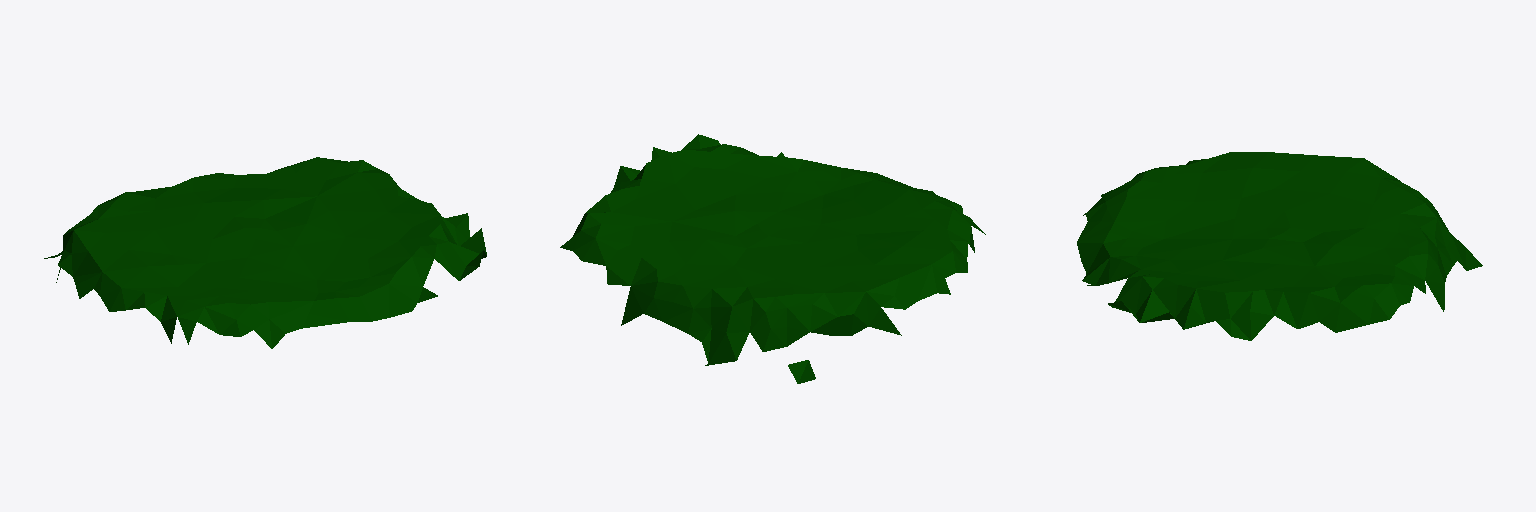
File: island_grass.obj
The picture shows the model from 3 angles: view 1: azimuth 30°, elevation 25°; view 2: azimuth 150°, elevation 25°; view 3: azimuth 270°, elevation 25°; orthographic projection.
Parts seen in each view (by area): view 1: polySurface13 polySurface12 island_obj; view 2: polySurface13 polySurface12 island_obj; view 3: polySurface13 polySurface12 island_obj.
Boxes of the visible parts, <box> form: polySurface13 polySurface12 island_obj: <box>56,157,486,348</box>; polySurface13 polySurface12 island_obj: <box>560,134,985,365</box>; polySurface13 polySurface12 island_obj: <box>1077,152,1482,340</box>.
Bounding box in the file's own units: 4.29 × 0.8434 × 4.2.